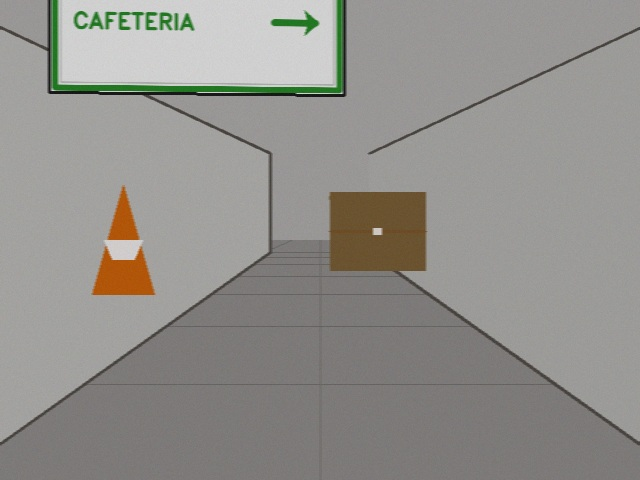box: (329, 192, 425, 270)
directional_sign: (49, 0, 344, 95)
obstacle: (92, 185, 154, 294)
